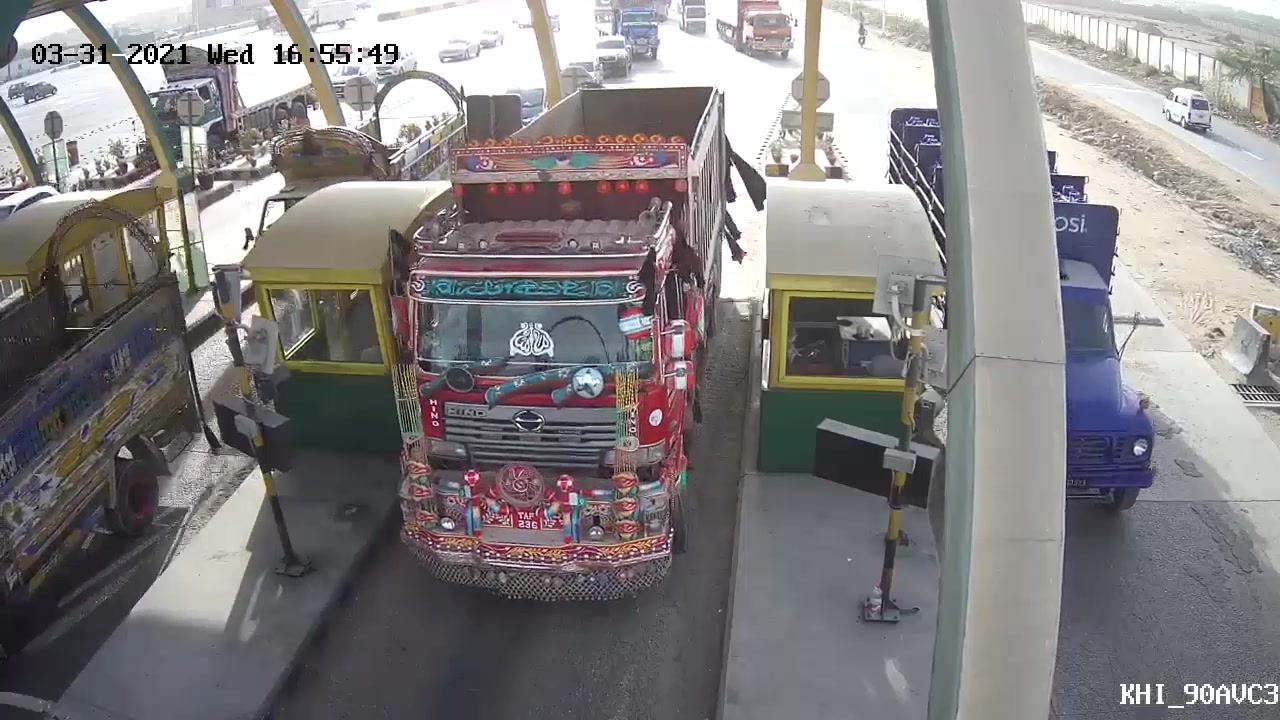F5: (379, 74, 741, 614)
